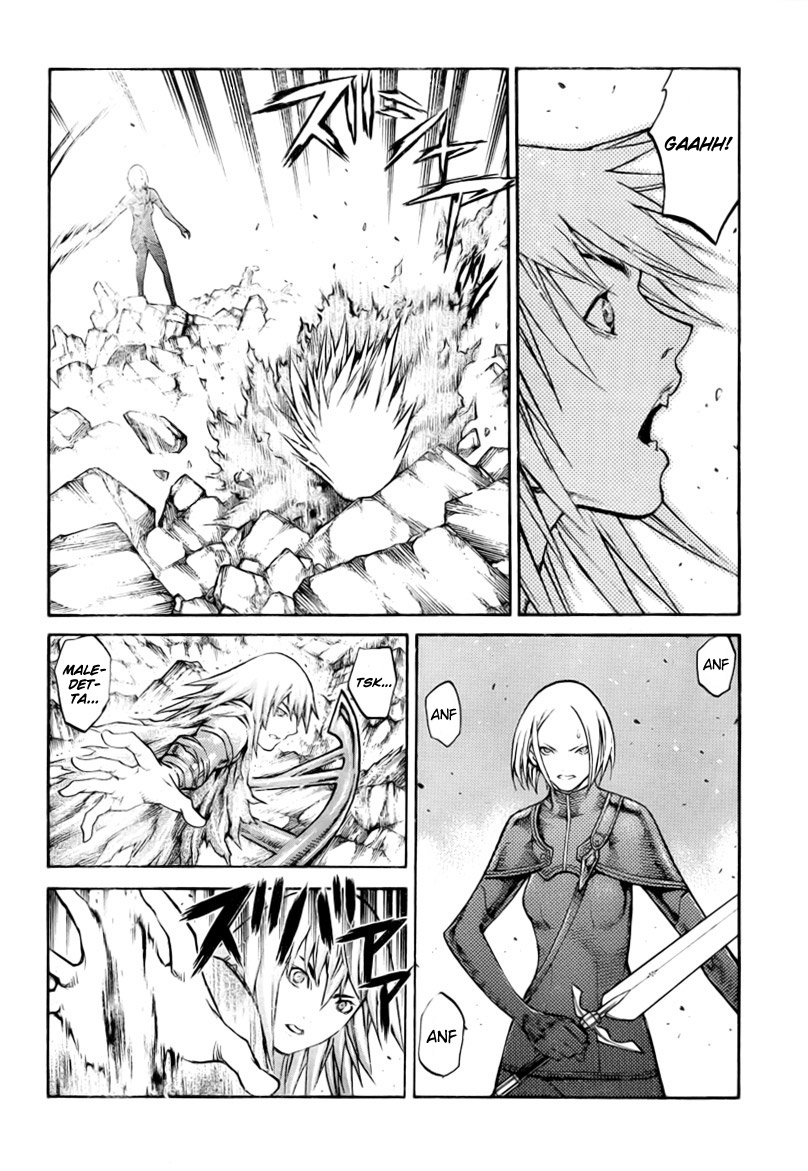Baloon: (650, 67, 740, 246), (54, 633, 111, 730), (415, 989, 463, 1076), (349, 646, 402, 719), (424, 683, 465, 749), (699, 635, 734, 699)
Vignetta: (50, 69, 509, 614), (416, 633, 741, 1092), (524, 64, 740, 614), (49, 637, 408, 865), (42, 887, 409, 1099)
